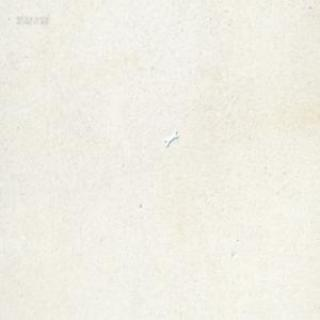Wrenchtrack_idkeyframe: (163, 130, 178, 146)
